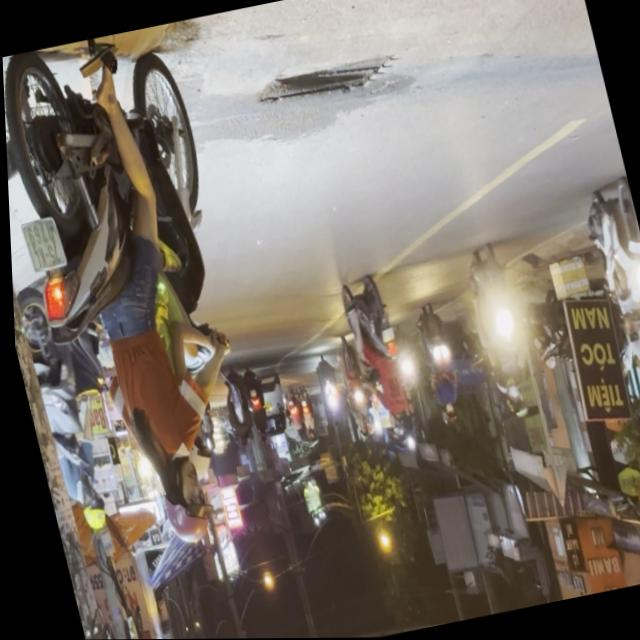helmet: (144, 450, 212, 548), (73, 489, 104, 533)
licenseplate: (1, 21, 288, 573), (11, 279, 114, 539), (573, 175, 640, 400)
motorcyclist: (638, 352, 640, 392)
nohelmet: (18, 220, 63, 273)
